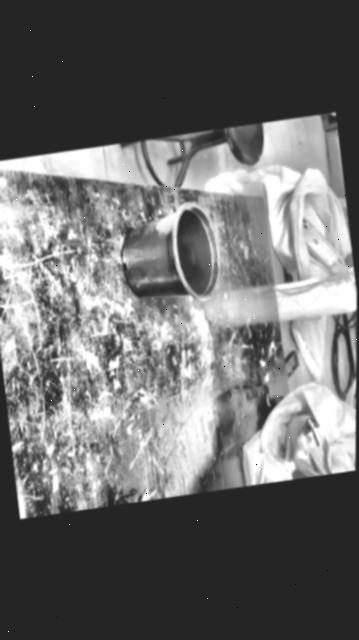pot: (114, 203, 221, 310)
